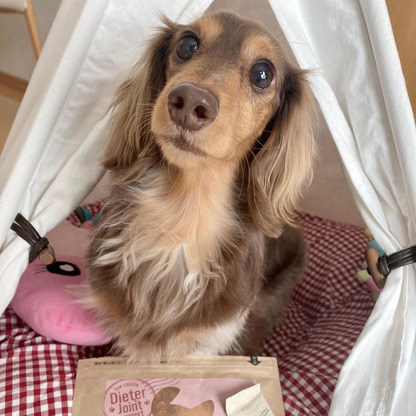dachshund: (91, 12, 338, 360)
